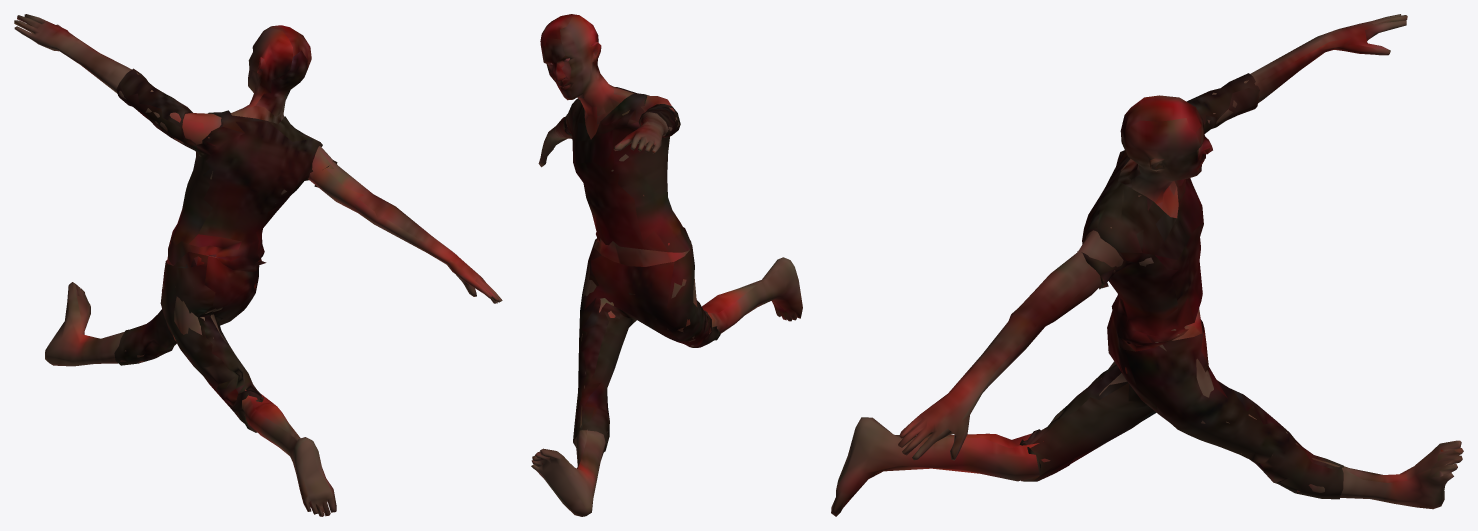
The model's file is zombie_run_3.glb.
3 renders of one model, left to right at view 1: azimuth 30°, elevation 25°; view 2: azimuth 150°, elevation 25°; view 3: azimuth 270°, elevation 25°, orthographic. The views are drawn at different scales.
Visible parts, largest first — view 1: CityDeadOutfit:Mesh1_pose; view 2: CityDeadOutfit:Mesh1_pose; view 3: CityDeadOutfit:Mesh1_pose.
Boxes of the visible parts, x1,y1,x2,y2 form: CityDeadOutfit:Mesh1_pose: (14,14,502,516); CityDeadOutfit:Mesh1_pose: (531,14,802,516); CityDeadOutfit:Mesh1_pose: (831,14,1463,516).
Bounding box in the file's own units: 1.4 × 1.75 × 2.07.
Materials: 3 (2 with a texture image).
